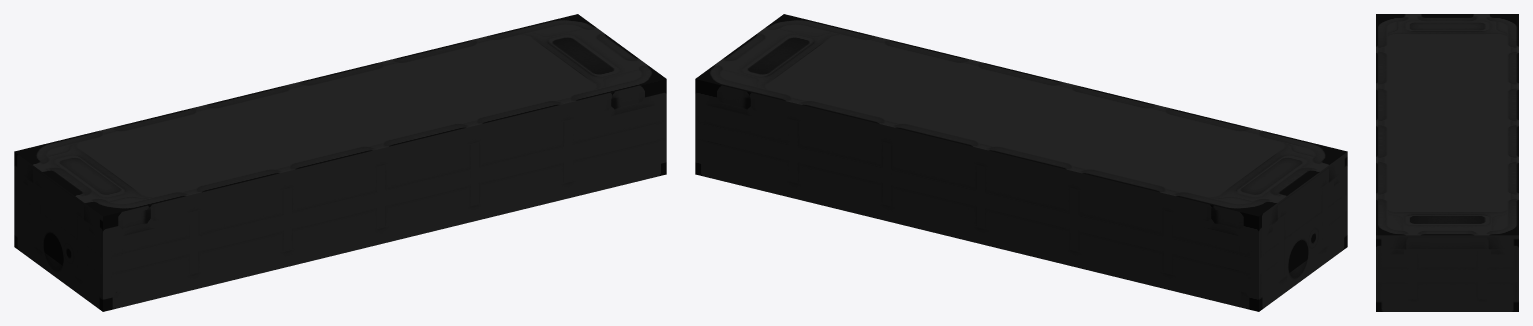
File: battery.dae
The picture shows the model from 3 angles, left to right: view 1: azimuth 30°, elevation 25°; view 2: azimuth 150°, elevation 25°; view 3: azimuth 270°, elevation 25°; orthographic projection. The views are drawn at different scales.
Visible parts, largest first — view 1: AM3 Battery LP; view 2: AM3 Battery LP; view 3: AM3 Battery LP.
Boxes of the visible parts, bbox=[...] form: AM3 Battery LP: bbox=[14, 14, 666, 311]; AM3 Battery LP: bbox=[695, 14, 1347, 311]; AM3 Battery LP: bbox=[1376, 14, 1518, 311].
Bounding box in the file's own units: 0.4581 × 0.125 × 0.0741.
1 material, 1 textured.
